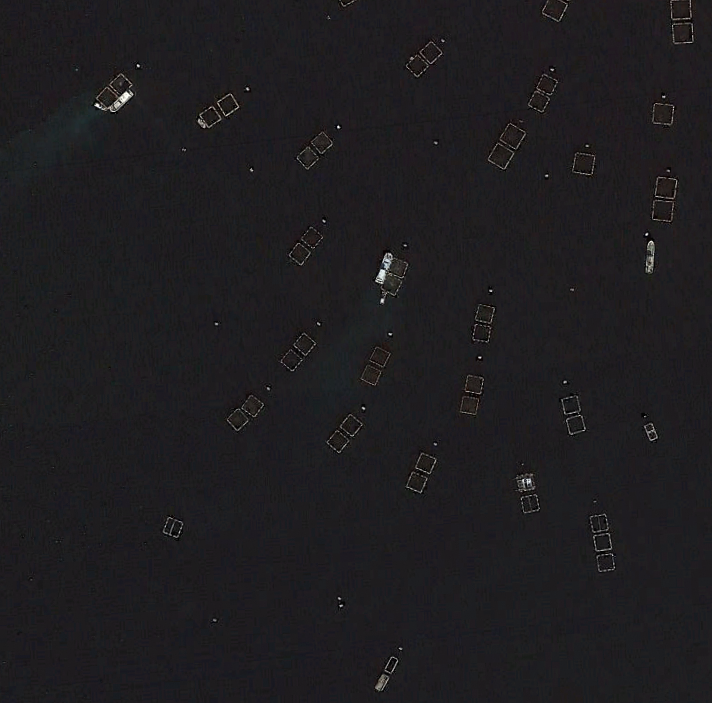house: (364, 264, 409, 302), (641, 95, 682, 127), (109, 65, 143, 101), (320, 425, 354, 460), (398, 467, 436, 498), (584, 502, 618, 536), (558, 386, 593, 419), (486, 140, 522, 172), (464, 294, 500, 326), (649, 170, 686, 201), (380, 248, 417, 279), (669, 14, 702, 48), (296, 220, 325, 257), (583, 548, 621, 576), (280, 239, 313, 271), (288, 327, 320, 360), (565, 147, 599, 178), (411, 448, 444, 479), (646, 191, 675, 226), (565, 407, 594, 442), (364, 339, 396, 370), (277, 348, 310, 378), (222, 405, 250, 440), (417, 35, 447, 66), (465, 316, 495, 347), (239, 391, 269, 422), (495, 118, 527, 147), (306, 125, 335, 156), (94, 83, 122, 115), (456, 368, 488, 396), (514, 495, 548, 521), (214, 91, 244, 120), (356, 361, 384, 392), (513, 470, 543, 497), (160, 514, 185, 545), (540, 1, 571, 26), (590, 528, 617, 556), (458, 394, 488, 419), (338, 411, 364, 439), (404, 49, 428, 78), (524, 85, 550, 110), (296, 143, 322, 168), (198, 105, 222, 130), (533, 73, 555, 95)
ship: (372, 248, 392, 281), (112, 91, 136, 115), (642, 236, 657, 271)
